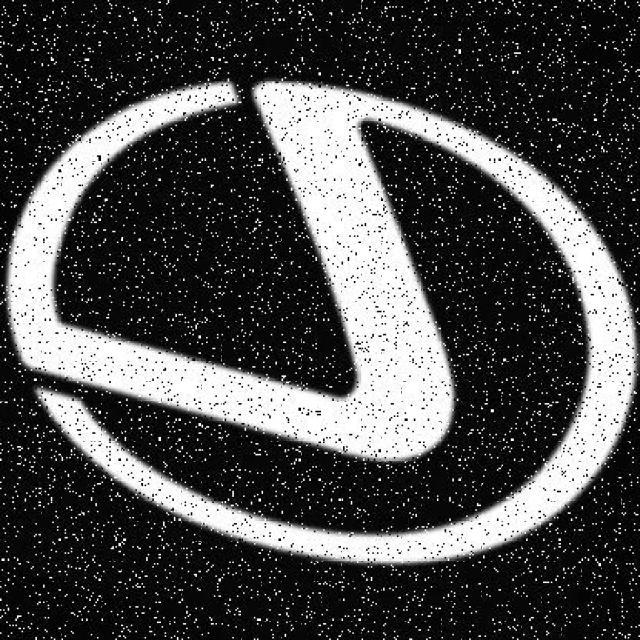Lexus: (0, 7, 638, 635)
